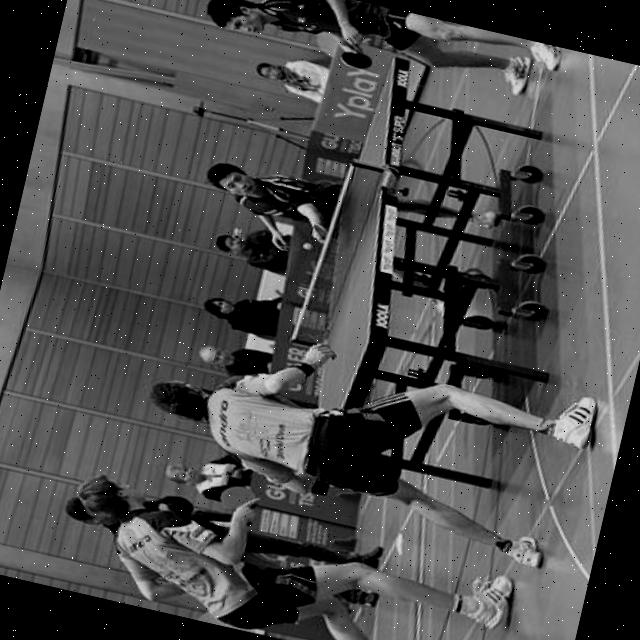ping-pong-ball: (298, 239, 314, 252)
